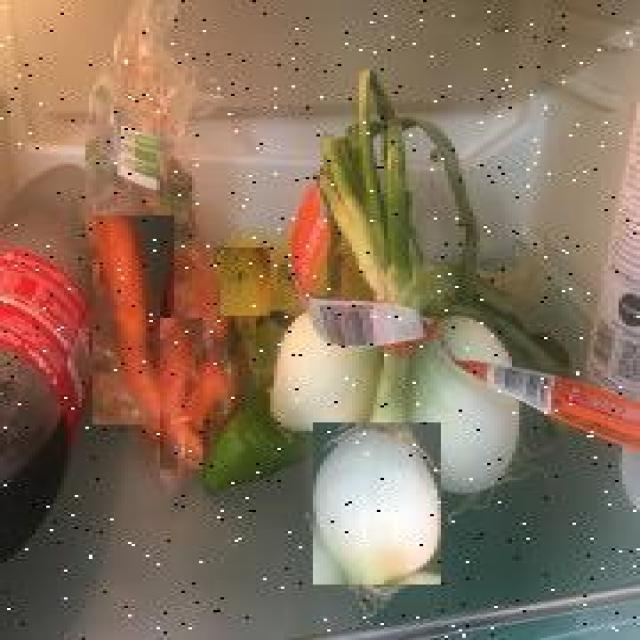carrot: (92, 216, 174, 424), (160, 318, 203, 470), (197, 352, 240, 425)
lemon: (220, 247, 270, 316)
onion: (397, 317, 518, 494), (313, 422, 441, 584), (268, 312, 382, 434)
